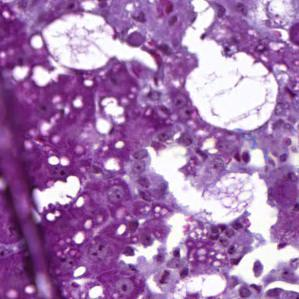ballooning: (184, 50, 280, 136), (39, 8, 119, 72)
